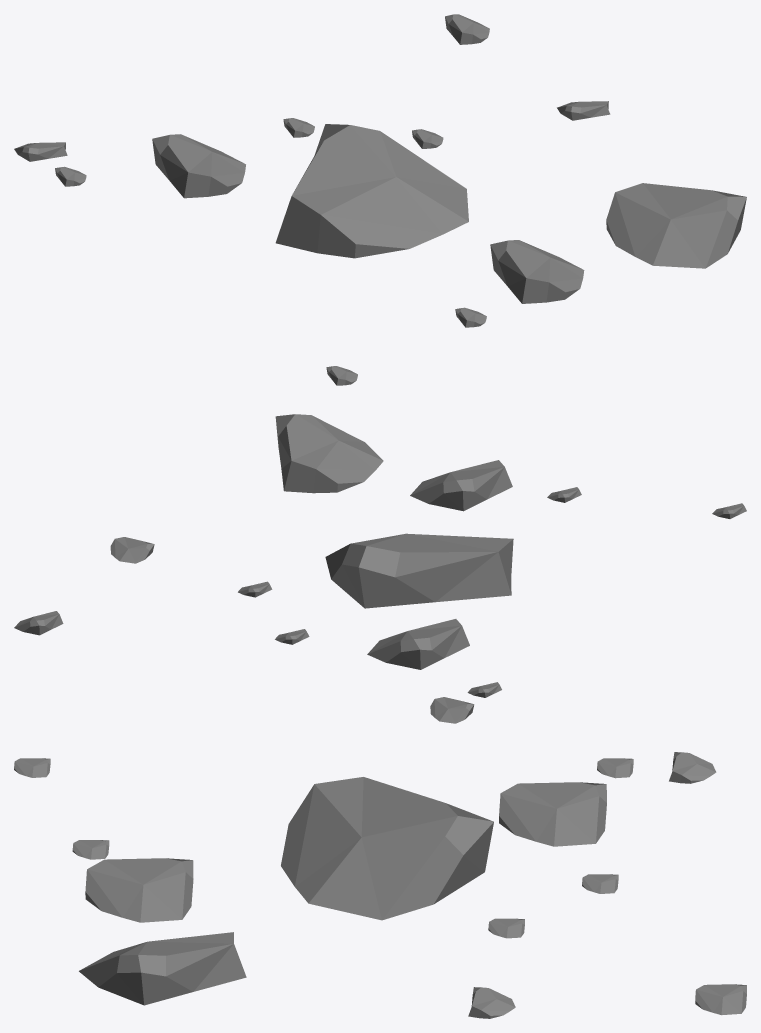
File: pebble.fbx
The picture shows the model from 3 angles, top to bottom: view 1: azimuth 30°, elevation 25°; view 2: azimuth 150°, elevation 25°; view 3: azimuth 270°, elevation 25°; orthographic projection. The views are drawn at different scales.
Parts seen in each view (by area): view 1: model_rock_conyon_scattered; view 2: model_rock_conyon_scattered; view 3: model_rock_conyon_scattered.
Part boxes in pixels (x1,y1,x2,y2): model_rock_conyon_scattered: (14, 14, 746, 385); model_rock_conyon_scattered: (14, 414, 746, 723); model_rock_conyon_scattered: (14, 752, 746, 1018).
Bounding box in the file's own units: 1.86 × 0.2092 × 2.24.
